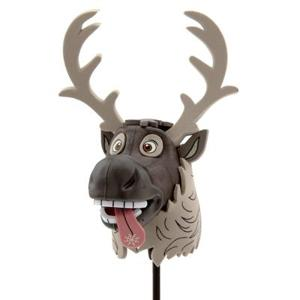sven: (53, 7, 268, 286)
